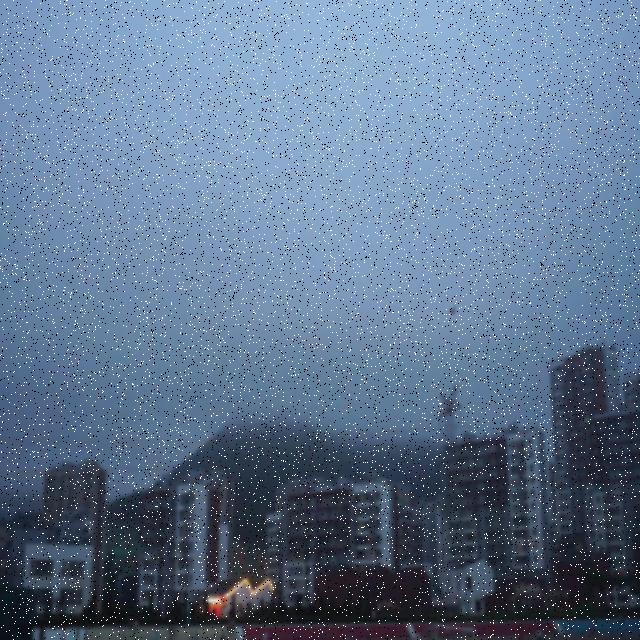UAV: (447, 304, 457, 316)
